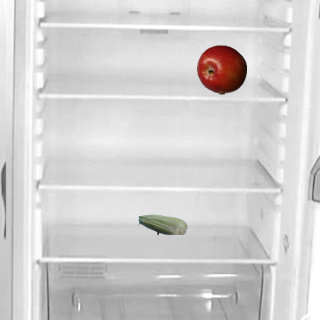Apple Braeburn: (196, 44, 246, 94)
Corn Husk: (137, 199, 187, 249)
